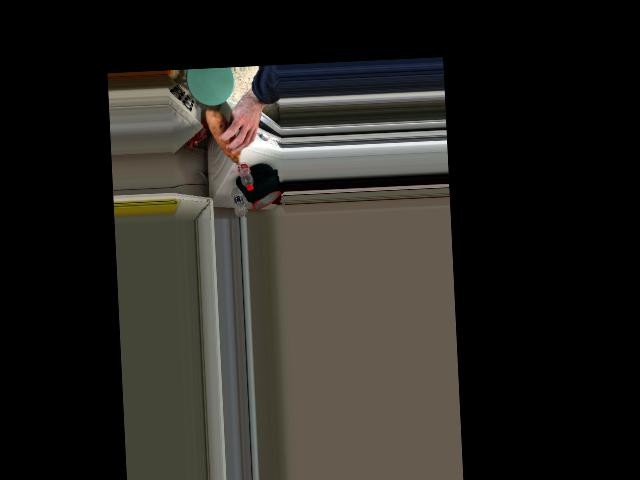sweet_potato: (207, 116, 250, 162)
